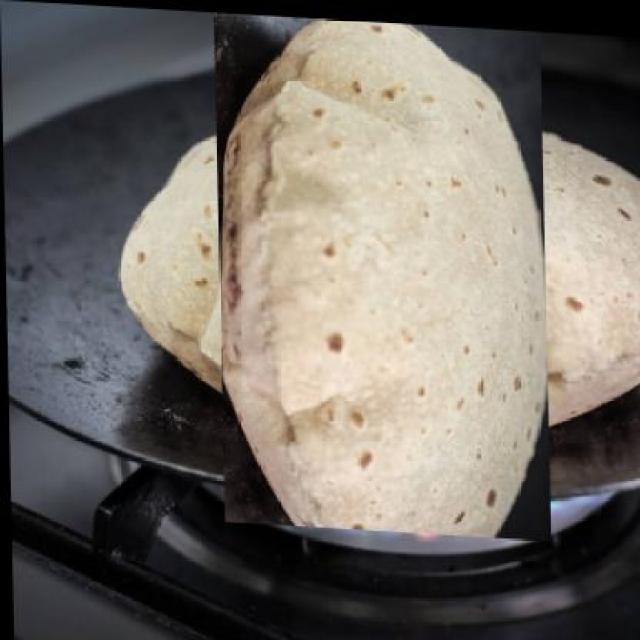chapati: (164, 42, 599, 489)
